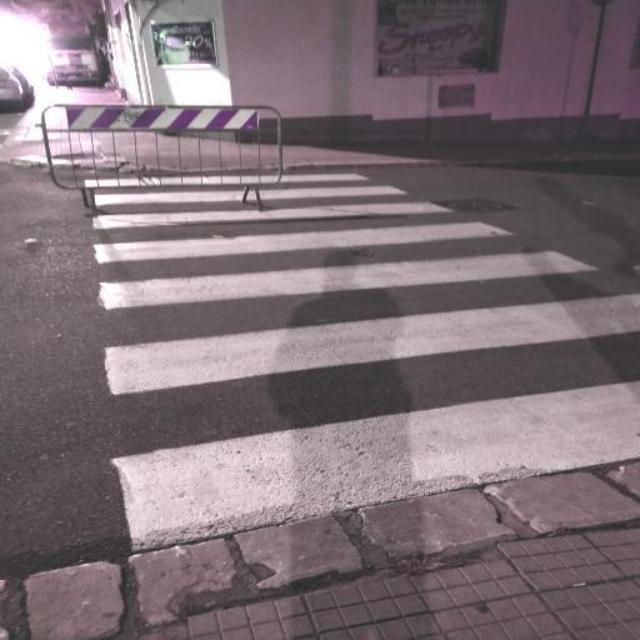sidewalk: (89, 169, 640, 554)
